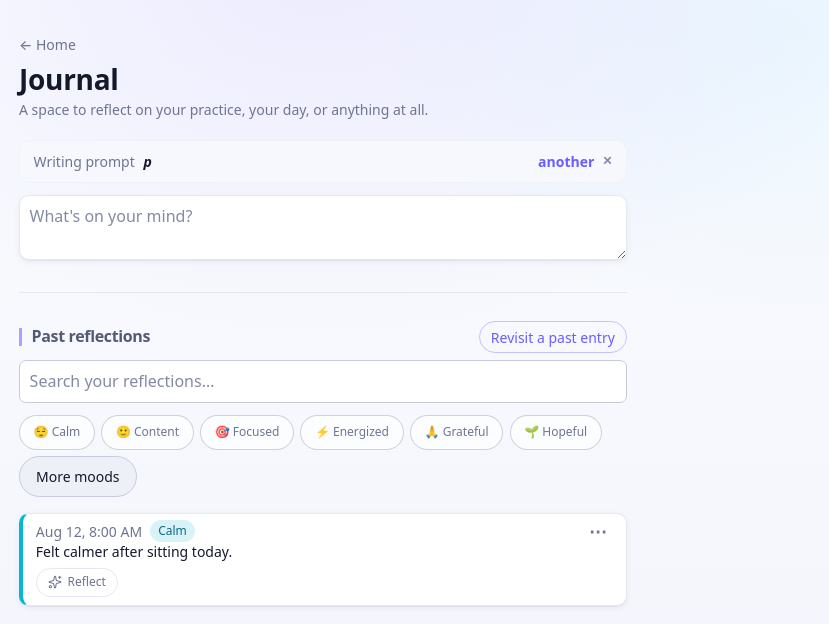
Test: JournalPage — AI reflection › shows a friendly note and disables Reflect for a guest account (403)
Click the button with aria-label "get a gentle reflection on this entry".
click(77, 582)  # box [36,568,118,597]
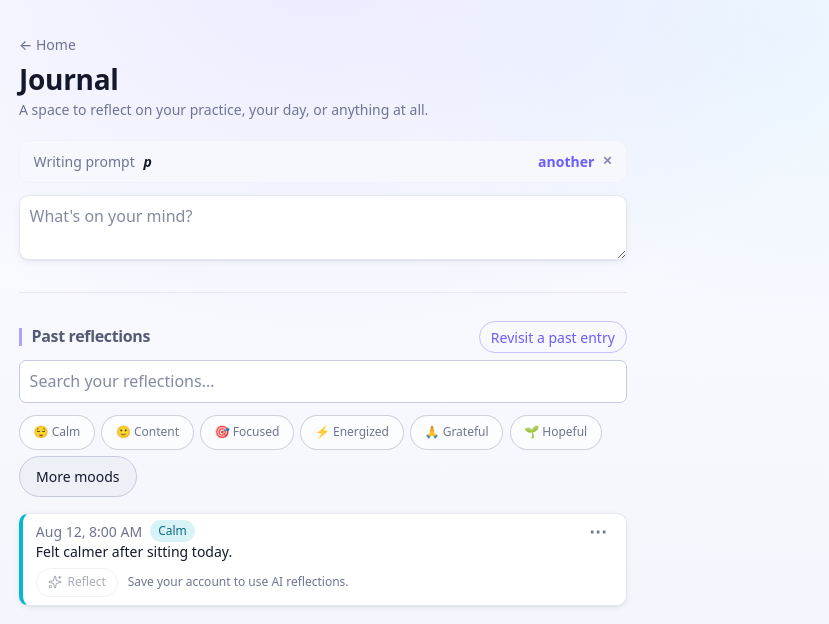
Result: the text "Save your account to use AI reflections." is shown at [128,573,349,591]
Result: the button with aria-label "get a gentle reflection on this entry" is disabled at [36,568,118,597]
